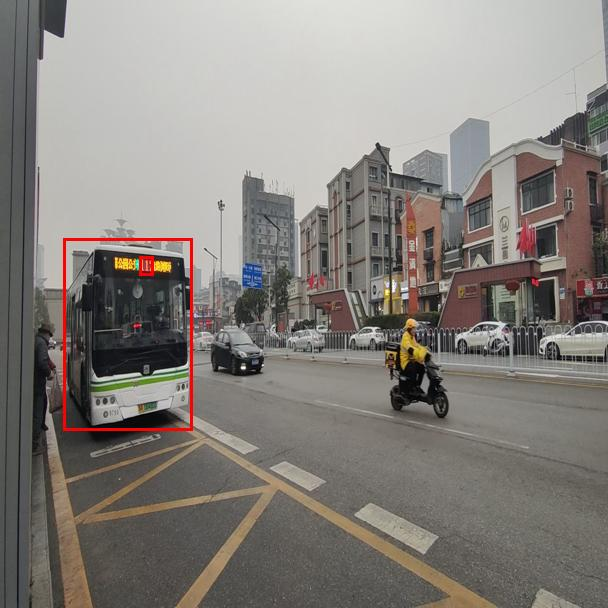bus: (63, 238, 192, 430)
screen: (139, 256, 153, 275)
